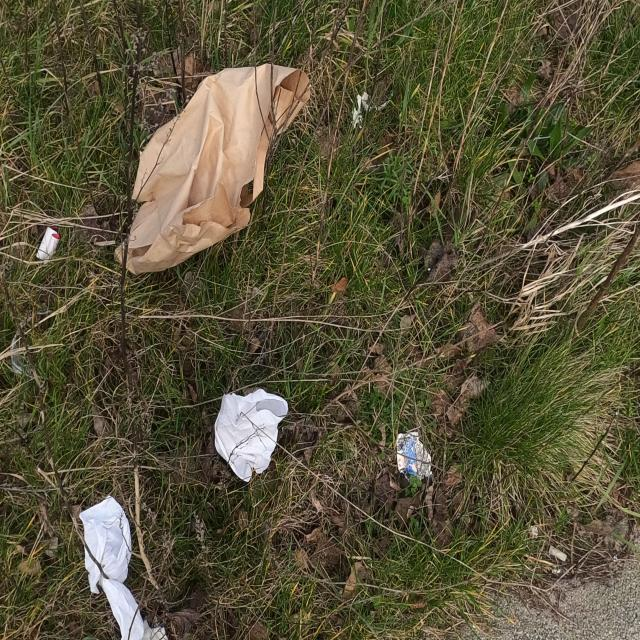Paper: (114, 62, 311, 278), (78, 494, 170, 640), (214, 388, 290, 484), (396, 430, 434, 480)
